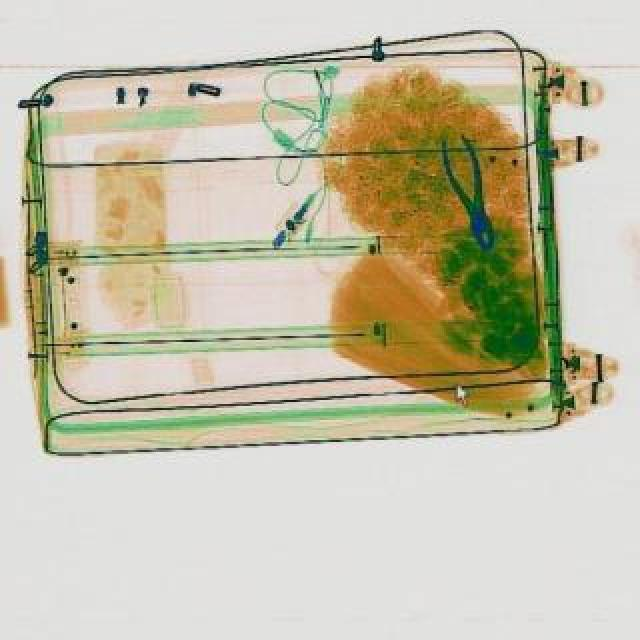wrench: (436, 130, 506, 254)
